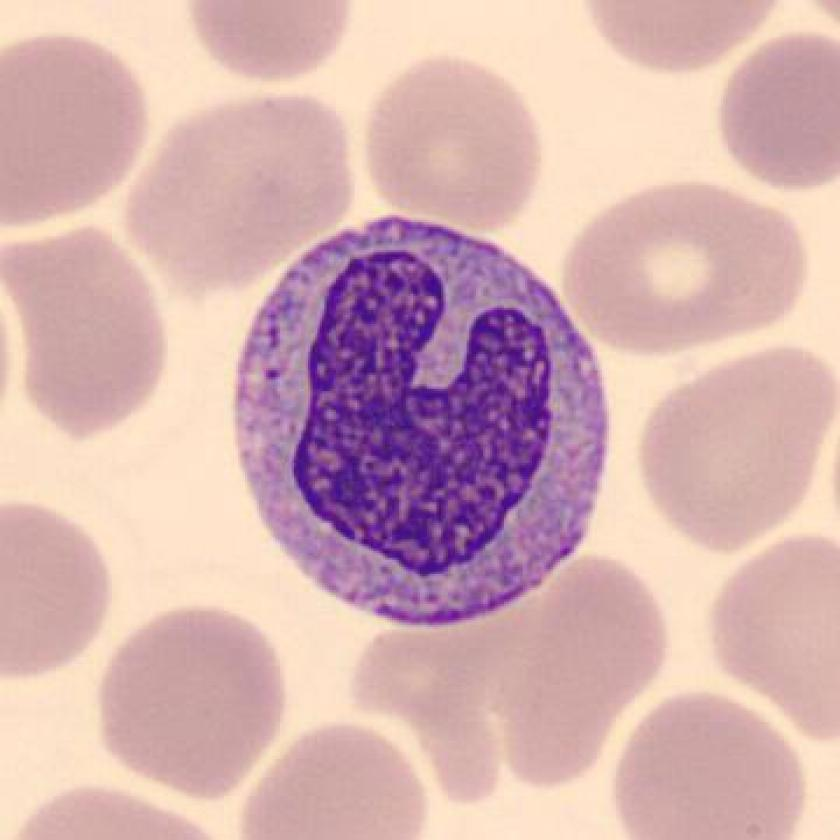monocyte: (216, 191, 633, 649)
